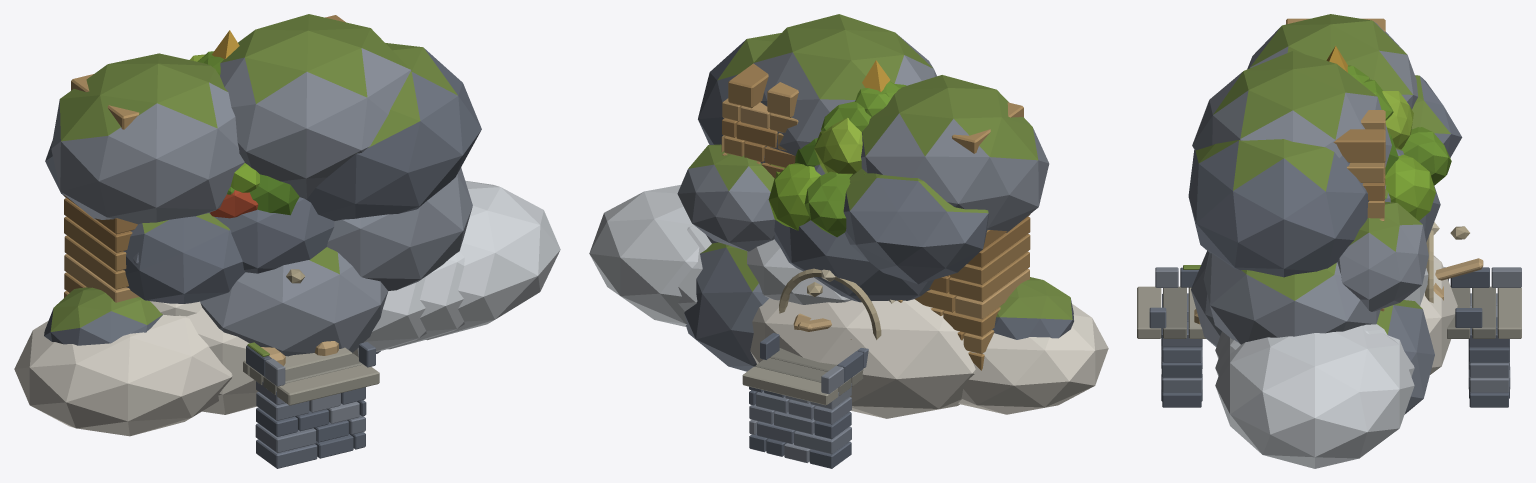
Rendered from props.glb.
3 renders of one model, left to right at view 1: azimuth 30°, elevation 25°; view 2: azimuth 150°, elevation 25°; view 3: azimuth 270°, elevation 25°, orthographic. The views are drawn at different scales.
Visible parts, largest first — view 1: prop_cliff, prop_cloud0, prop_bridge, prop_cloud2, prop_gate, prop_cloud1, prop_bigTree, prop_tree_red; view 2: prop_cliff, prop_cloud0, prop_gate, prop_bridge, prop_cloud2, prop_bigTree, prop_ribcage, prop_cloud1; view 3: prop_cliff, prop_cloud2, prop_bridge, prop_bigTree, prop_gate, prop_cloud0, prop_sphinx, prop_ribcage, prop_cloud1.
Boxes of the visible parts, <box> form: prop_cliff: <box>44,14,481,356</box>; prop_cloud0: <box>14,276,426,436</box>; prop_bridge: <box>243,342,379,468</box>; prop_cloud2: <box>425,180,560,340</box>; prop_gate: <box>64,15,345,302</box>; prop_cloud1: <box>387,251,464,349</box>; prop_bigTree: <box>190,51,299,215</box>; prop_tree_red: <box>210,190,258,218</box>; prop_cliff: <box>677,14,1073,371</box>; prop_cloud0: <box>747,239,1108,418</box>; prop_gate: <box>721,63,1030,370</box>; prop_bridge: <box>742,333,868,468</box>; prop_cloud2: <box>589,185,699,326</box>; prop_bigTree: <box>768,81,906,237</box>; prop_ribcage: <box>779,268,895,339</box>; prop_cloud1: <box>678,226,711,311</box>; prop_cliff: <box>1188,14,1462,414</box>; prop_cloud2: <box>1215,325,1414,468</box>; prop_bridge: <box>1137,265,1521,407</box>; prop_bigTree: <box>1347,65,1451,220</box>; prop_gate: <box>1286,18,1385,311</box>; prop_cloud0: <box>1215,255,1457,374</box>; prop_sphinx: <box>1194,258,1483,324</box>; prop_ribcage: <box>1425,222,1469,303</box>; prop_cloud1: <box>1215,324,1414,376</box>.
Bounding box in the file's own units: 13.69 × 9.25 × 9.26.
